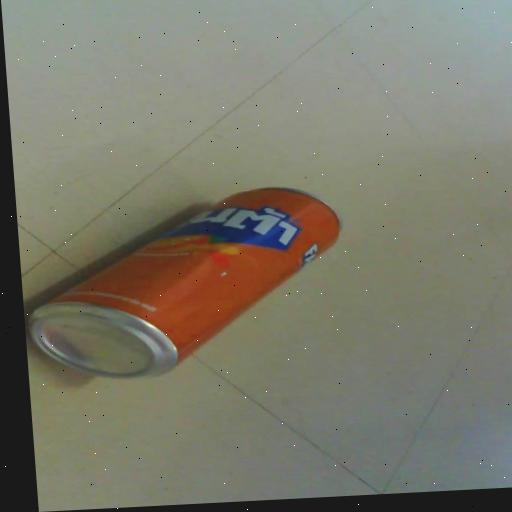canned: (14, 171, 372, 394)
